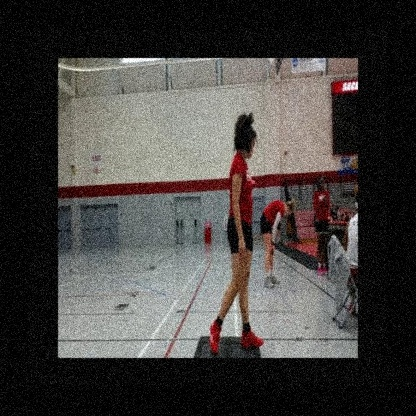lateral_flexion_left: (209, 108, 265, 358)
stance_width_broad: (209, 147, 264, 358)
